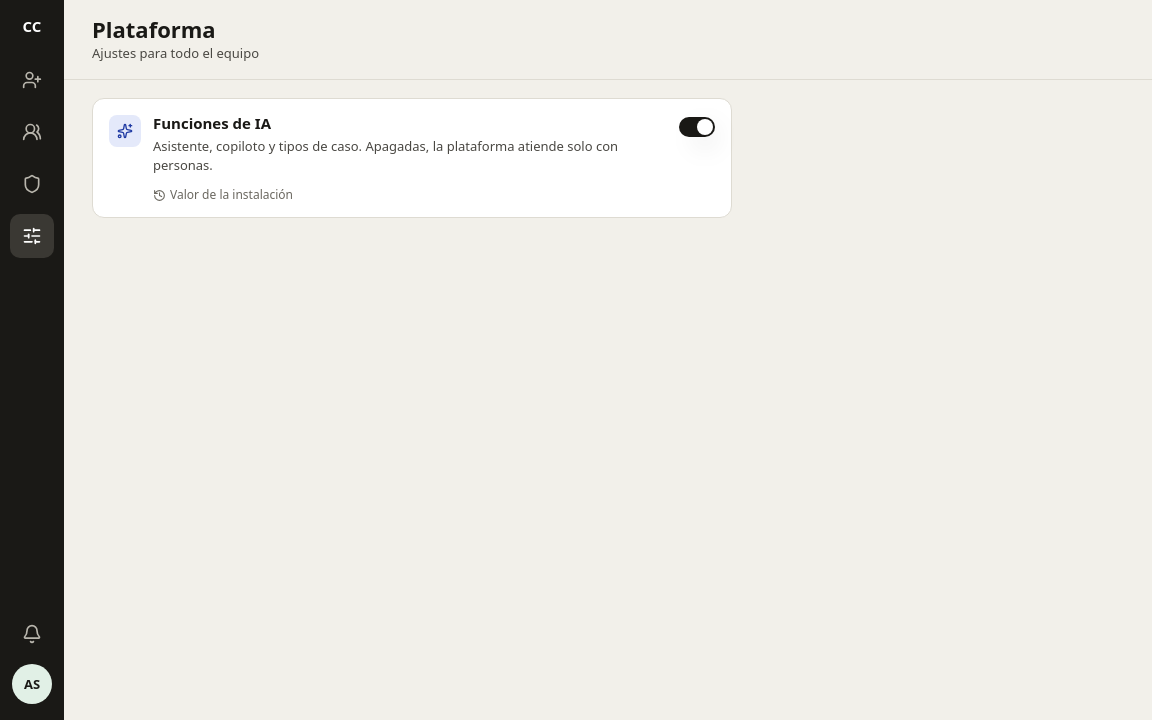
/admin/platform ("Plataforma", slice 18) › turns it off at once, then shows who changed it, and the app follows
The image size is (1152, 720).
Click the switch named "Funciones de IA".
click(697, 127)  # box 679,117 -> 715,137
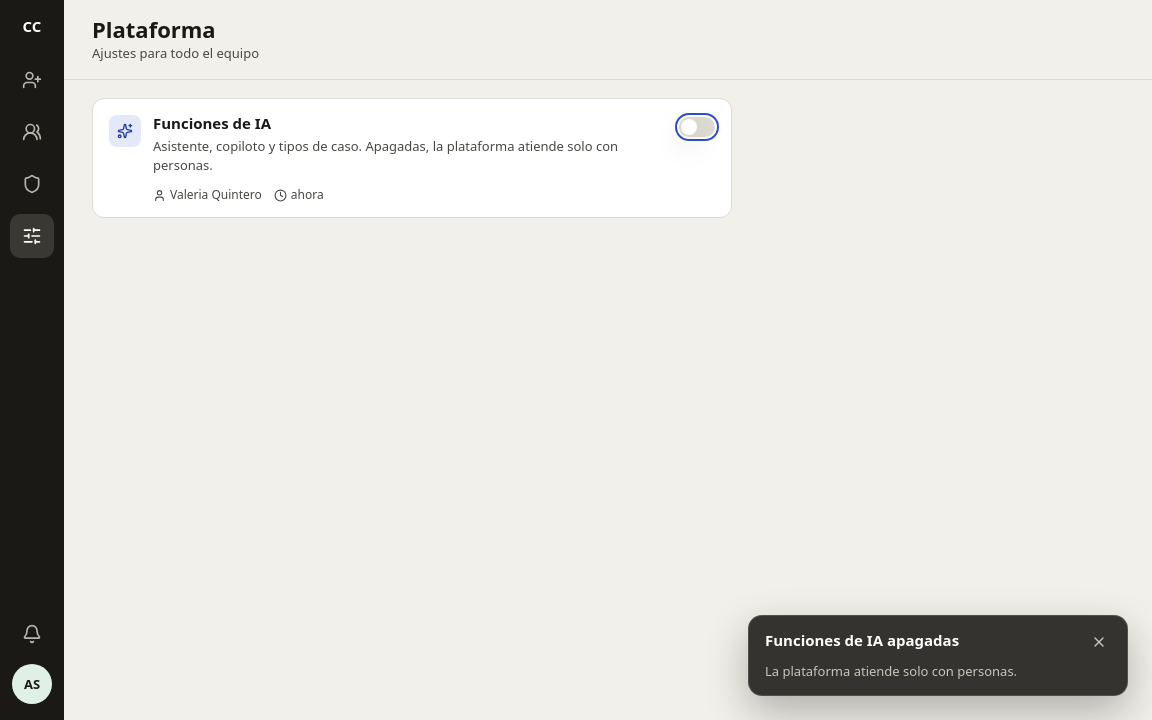
Expected: the text "Valeria Quintero" is shown, 170,187 -> 262,204
Expected: the text "Funciones de IA apagadas" is shown, 765,630 -> 959,650
